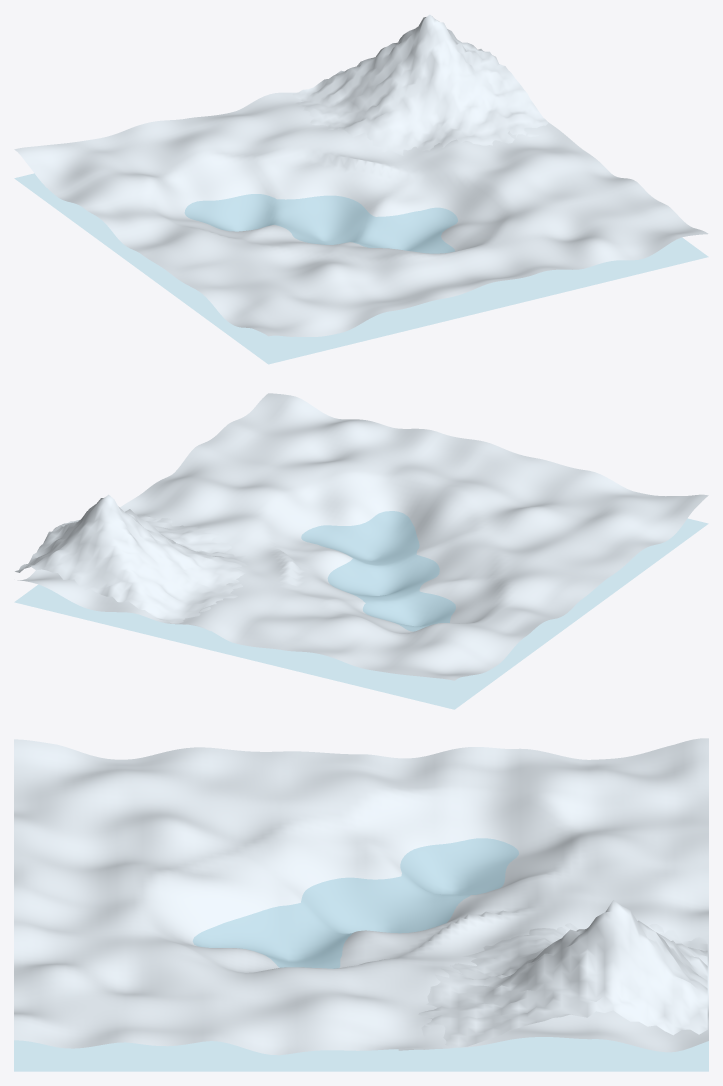
Rendered from map.glb.
3 renders of one model, top to bottom at view 1: azimuth 30°, elevation 25°; view 2: azimuth 150°, elevation 25°; view 3: azimuth 270°, elevation 25°, orthographic. The views are drawn at different scales.
Parts seen in each view (by area): view 1: Terrain, Water, Mountain; view 2: Terrain, Water, Mountain; view 3: Terrain, Water, Mountain.
Part boxes in pixels (<box>): Terrain: <box>14,92,708,336</box>; Water: <box>15,173,707,363</box>; Mountain: <box>292,14,547,155</box>; Terrain: <box>17,393,708,680</box>; Water: <box>15,511,707,709</box>; Mountain: <box>15,494,250,630</box>; Terrain: <box>14,738,708,1055</box>; Water: <box>14,838,708,1071</box>; Mountain: <box>394,900,707,1050</box>.
Bounding box in the file's own units: 240 × 61.37 × 240.
